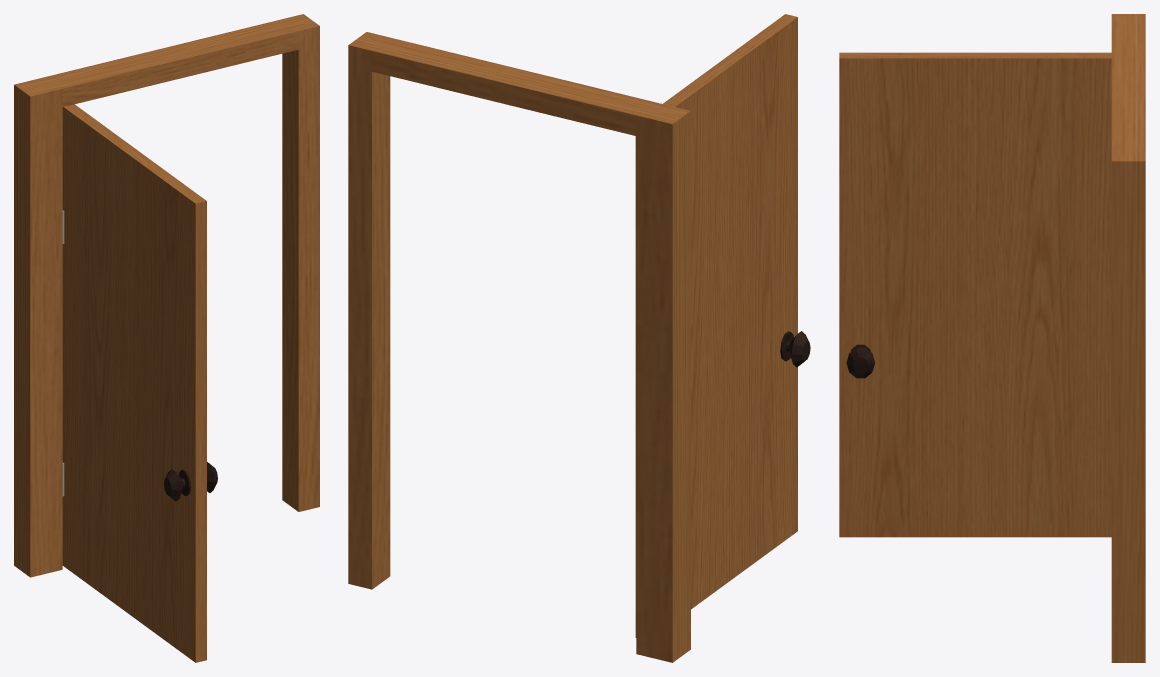
The model's file is dış kapı yeni.fbx.
3 renders of one model, left to right at view 1: azimuth 30°, elevation 25°; view 2: azimuth 150°, elevation 25°; view 3: azimuth 270°, elevation 25°, orthographic. The views are drawn at different scales.
Parts seen in each view (by area): view 1: Plane.001, Plane.024; view 2: Plane.024, Plane.001; view 3: Plane.001, Plane.024.
Boxes of the visible parts, <box> form: Plane.001: <box>62,104,217,662</box>; Plane.024: <box>14,14,319,577</box>; Plane.024: <box>348,32,690,662</box>; Plane.001: <box>635,14,810,637</box>; Plane.001: <box>839,52,1111,537</box>; Plane.024: <box>1111,14,1145,662</box>.
Size of the model in its own units: 123 by 195 by 108.
1 material, 1 textured.
